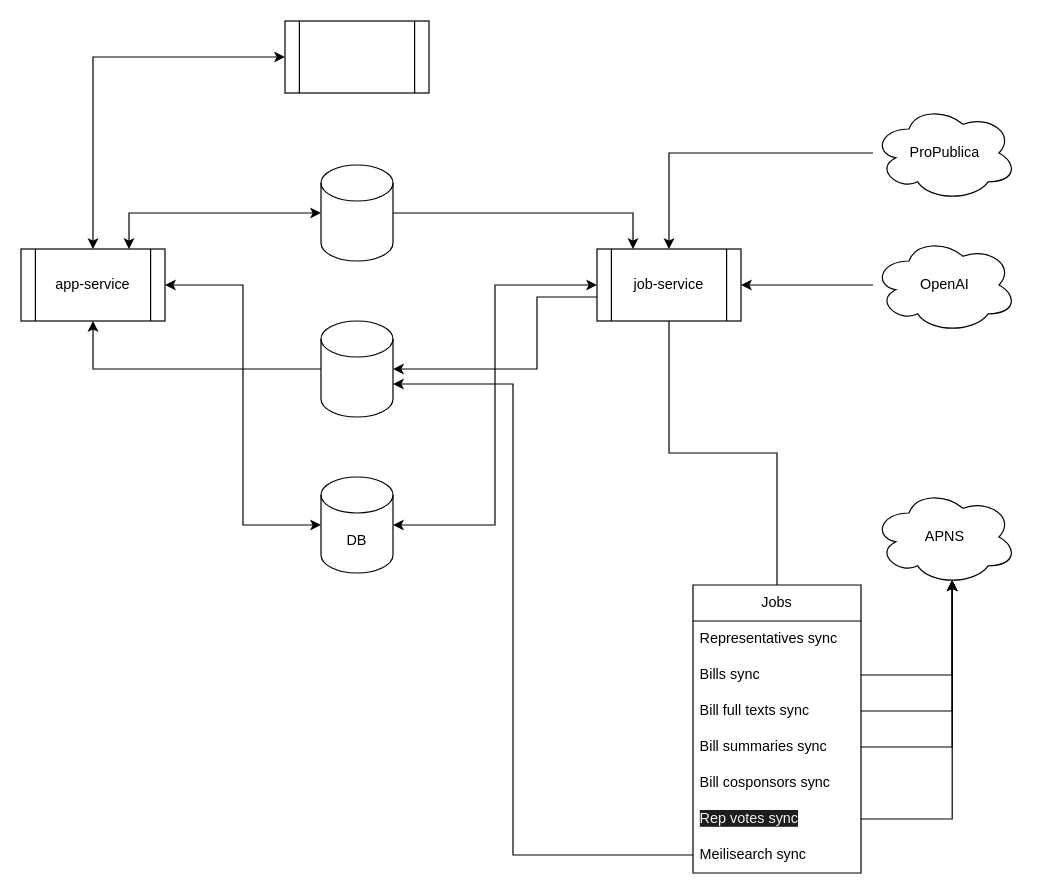
This 1038x894 diagram has some shape labels left out. Here are the shapes that lost their labels. From the top down, the box of each, then its label:
(284, 20, 429, 93): mobile
(320, 164, 393, 261): Redis
(320, 320, 393, 417): Meili
